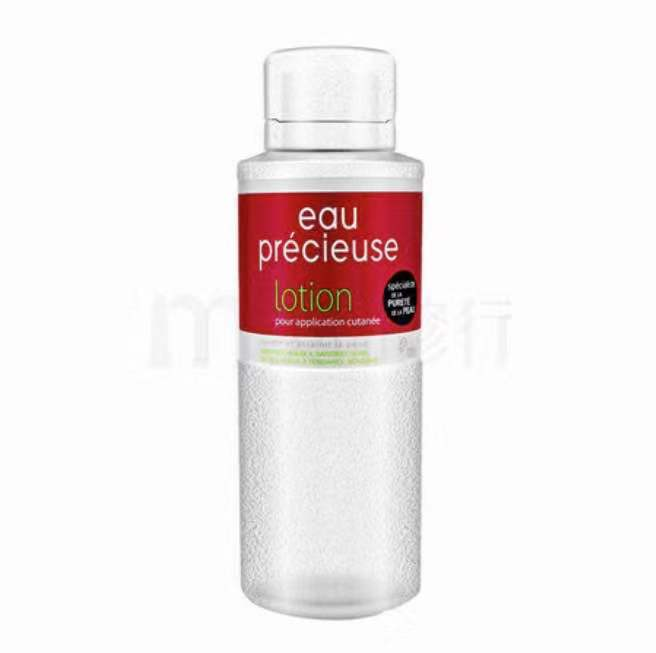cosmetic: (237, 48, 422, 595)
